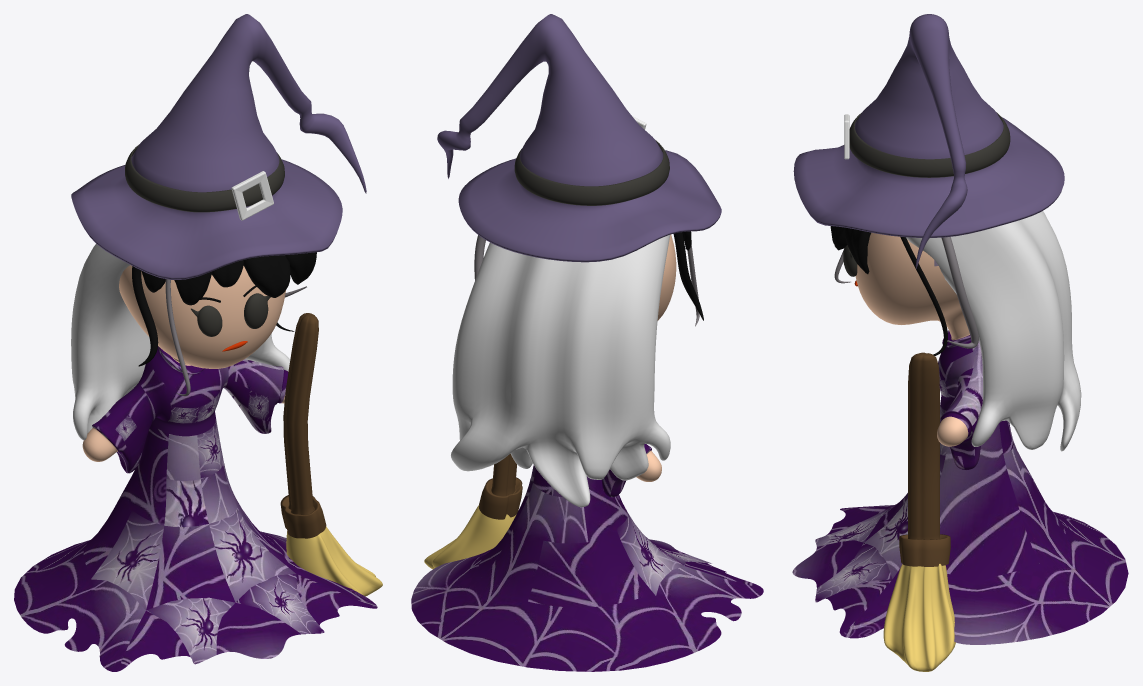
The model's file is witch_model_FINAL.fbx.
The picture shows the model from 3 angles, left to right: view 1: azimuth 30°, elevation 25°; view 2: azimuth 150°, elevation 25°; view 3: azimuth 270°, elevation 25°; orthographic projection. The views are drawn at different scales.
Parts seen in each view (by area): view 1: Cube, Cylinder, Cube.001, Broomstick, Belt Hat, Broom, Plane, buckle, NurbsPath.002, Plane.003, Eye.001, Plane.002 (+3 smaller); view 2: Cube.001, Cube, Cylinder, Belt Hat, Broom, Broomstick, NurbsPath.002; view 3: Cube, Cylinder, Cube.001, Broomstick, Broom, Belt Hat, NurbsPath.003, Plane.002, NurbsPath.
Part boxes in pixels (left/top/right/bottom): Cube: left=14, top=265, right=377, bottom=671; Cylinder: left=71, top=14, right=366, bottom=279; Cube.001: left=71, top=244, right=290, bottom=440; Broomstick: left=280, top=313, right=326, bottom=538; Belt Hat: left=125, top=144, right=284, bottom=212; Broom: left=286, top=526, right=382, bottom=596; Plane: left=243, top=255, right=290, bottom=297; buckle: left=231, top=171, right=273, bottom=220; NurbsPath.002: left=132, top=266, right=158, bottom=366; Plane.003: left=174, top=271, right=212, bottom=305; Eye.001: left=244, top=293, right=270, bottom=328; Plane.002: left=285, top=252, right=316, bottom=284; Cube.001: left=451, top=235, right=670, bottom=507; Cube: left=411, top=234, right=763, bottom=671; Cylinder: left=437, top=14, right=721, bottom=262; Belt Hat: left=514, top=140, right=669, bottom=205; Broom: left=424, top=505, right=516, bottom=569; Broomstick: left=479, top=454, right=522, bottom=519; NurbsPath.002: left=673, top=232, right=703, bottom=320; Cube: left=792, top=232, right=1128, bottom=644; Cylinder: left=793, top=14, right=1064, bottom=268; Cube.001: left=906, top=211, right=1081, bottom=451; Broomstick: left=899, top=352, right=950, bottom=566; Broom: left=883, top=564, right=955, bottom=671; Belt Hat: left=849, top=112, right=1010, bottom=177; NurbsPath.003: left=941, top=237, right=978, bottom=348; Plane.002: left=844, top=227, right=870, bottom=274; NurbsPath: left=900, top=236, right=947, bottom=355.
Size of the model in its own units: 231 by 412 by 209.
Materials: 11 (1 with a texture image).
